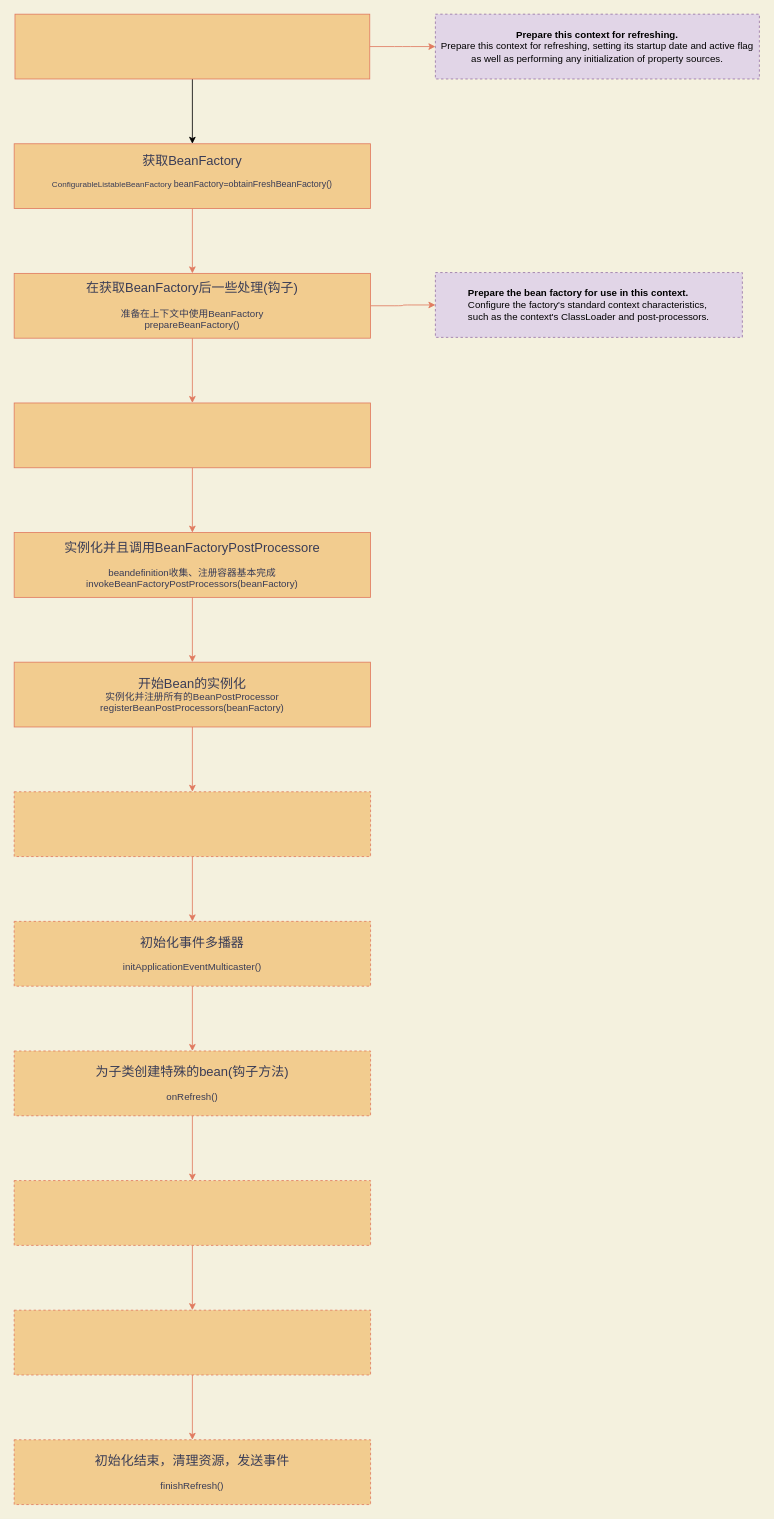
Image size: 774x1519. Some labels were removed from this diagram. Each missing label, with the box of its shape:
准备上下文 prepareRefresh(): (14, 13, 370, 79)
初始化一些国际化相关的组件 initMessageSource(): (13, 791, 371, 857)
在处理BeanFactory前一些处理(钩子) 执行beanFactory的后置处理 postProcessBeanFactory(): (13, 402, 371, 468)
实例化所有非懒加载的单例bean finishBeanFactoryInitialization(): (13, 1309, 371, 1375)
注册事件监听器 registerListeners(): (13, 1180, 371, 1245)
